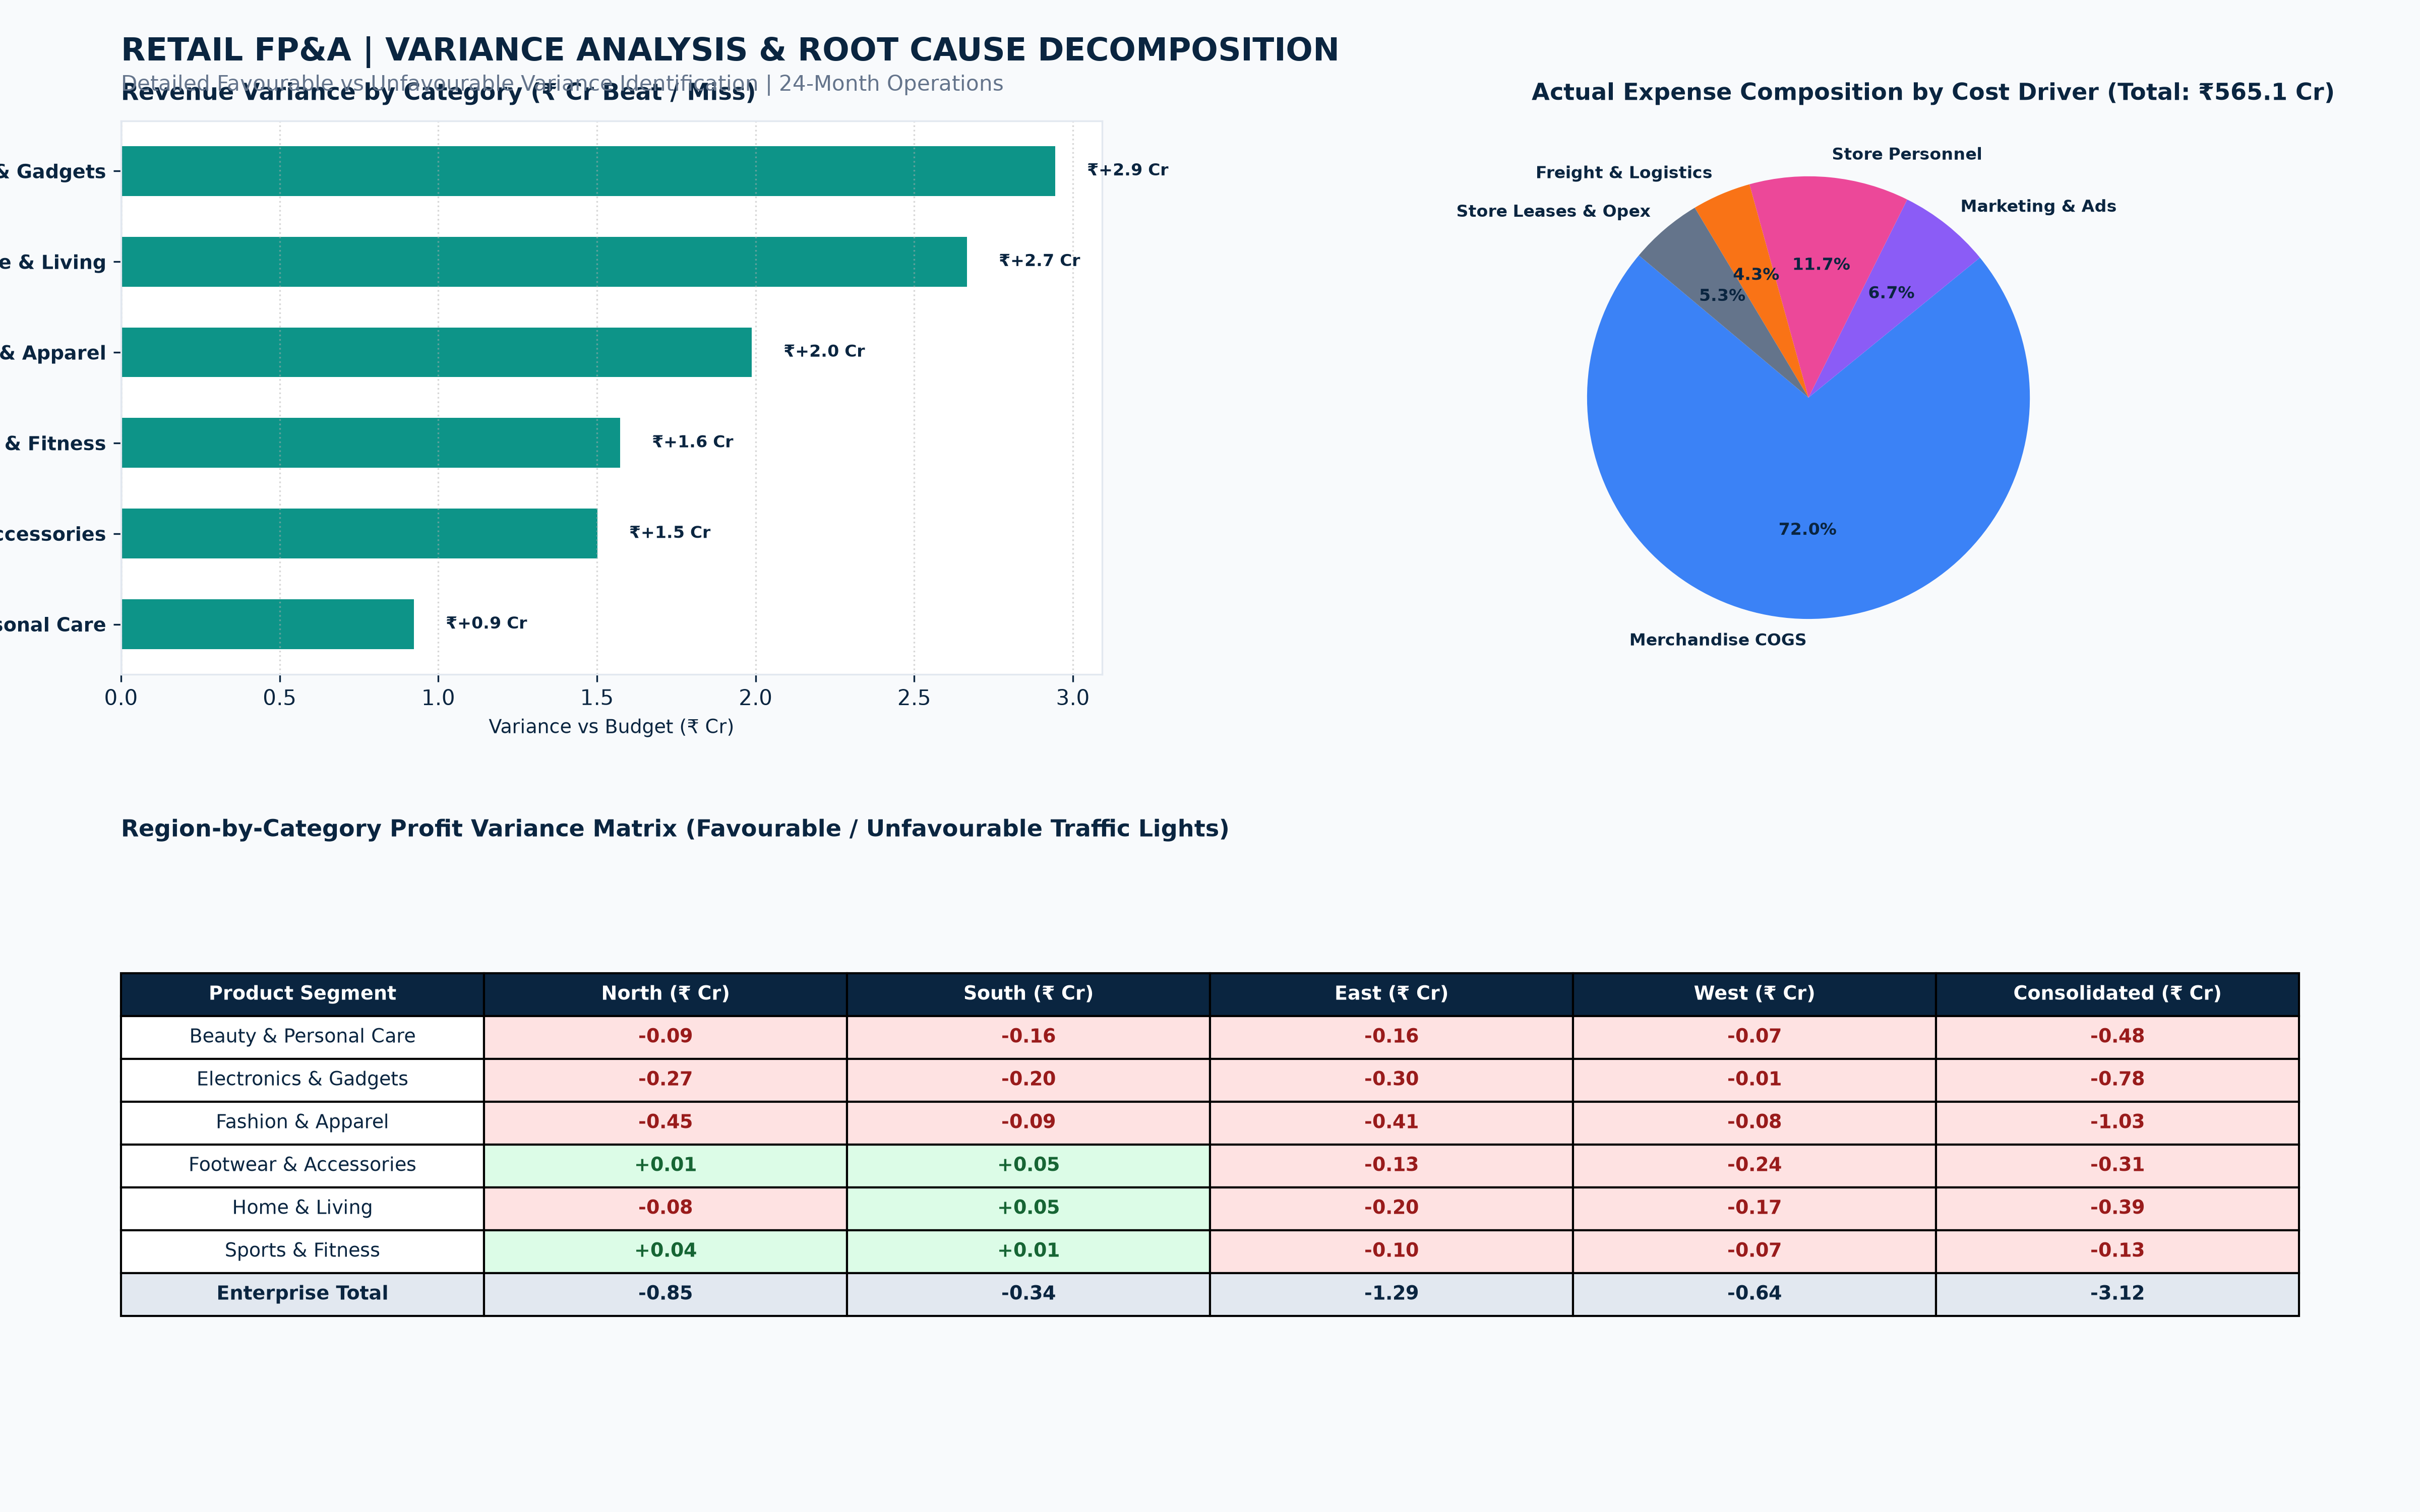

The page's visual inventory and layout, read from the dashboard file:
{"tool":"powerbi","page":{"name":"Variance Analysis","canvas":[1280,720],"ordinal":1},"visuals":[{"type":"unknown","box":[20,20,1240,60]},{"type":"unknown","box":[20,90,600,280]},{"type":"unknown","box":[640,90,620,280]},{"type":"unknown","box":[20,390,1240,300]}]}

Visuals, with their boxes on the page's 1280x720 design canvas (x1, y1, x2, y2). These are canvas units, not pixel positions in the 2420x1512 screenshot, which may show the page scaled, cropped or inside an application window:
unknown: [x1=20, y1=20, x2=1260, y2=80]
unknown: [x1=20, y1=90, x2=620, y2=370]
unknown: [x1=640, y1=90, x2=1260, y2=370]
unknown: [x1=20, y1=390, x2=1260, y2=690]
